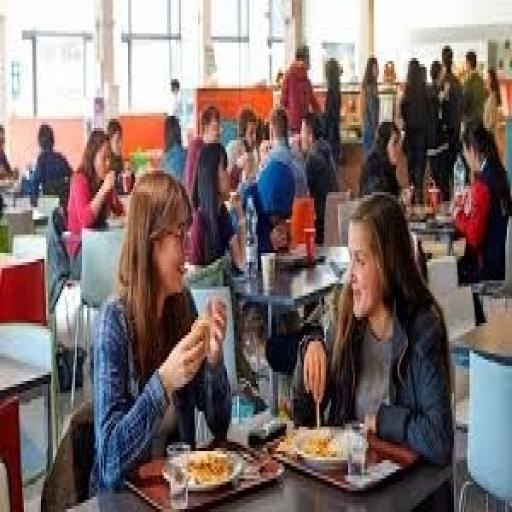eating: (87, 164, 234, 494), (298, 186, 456, 472)
